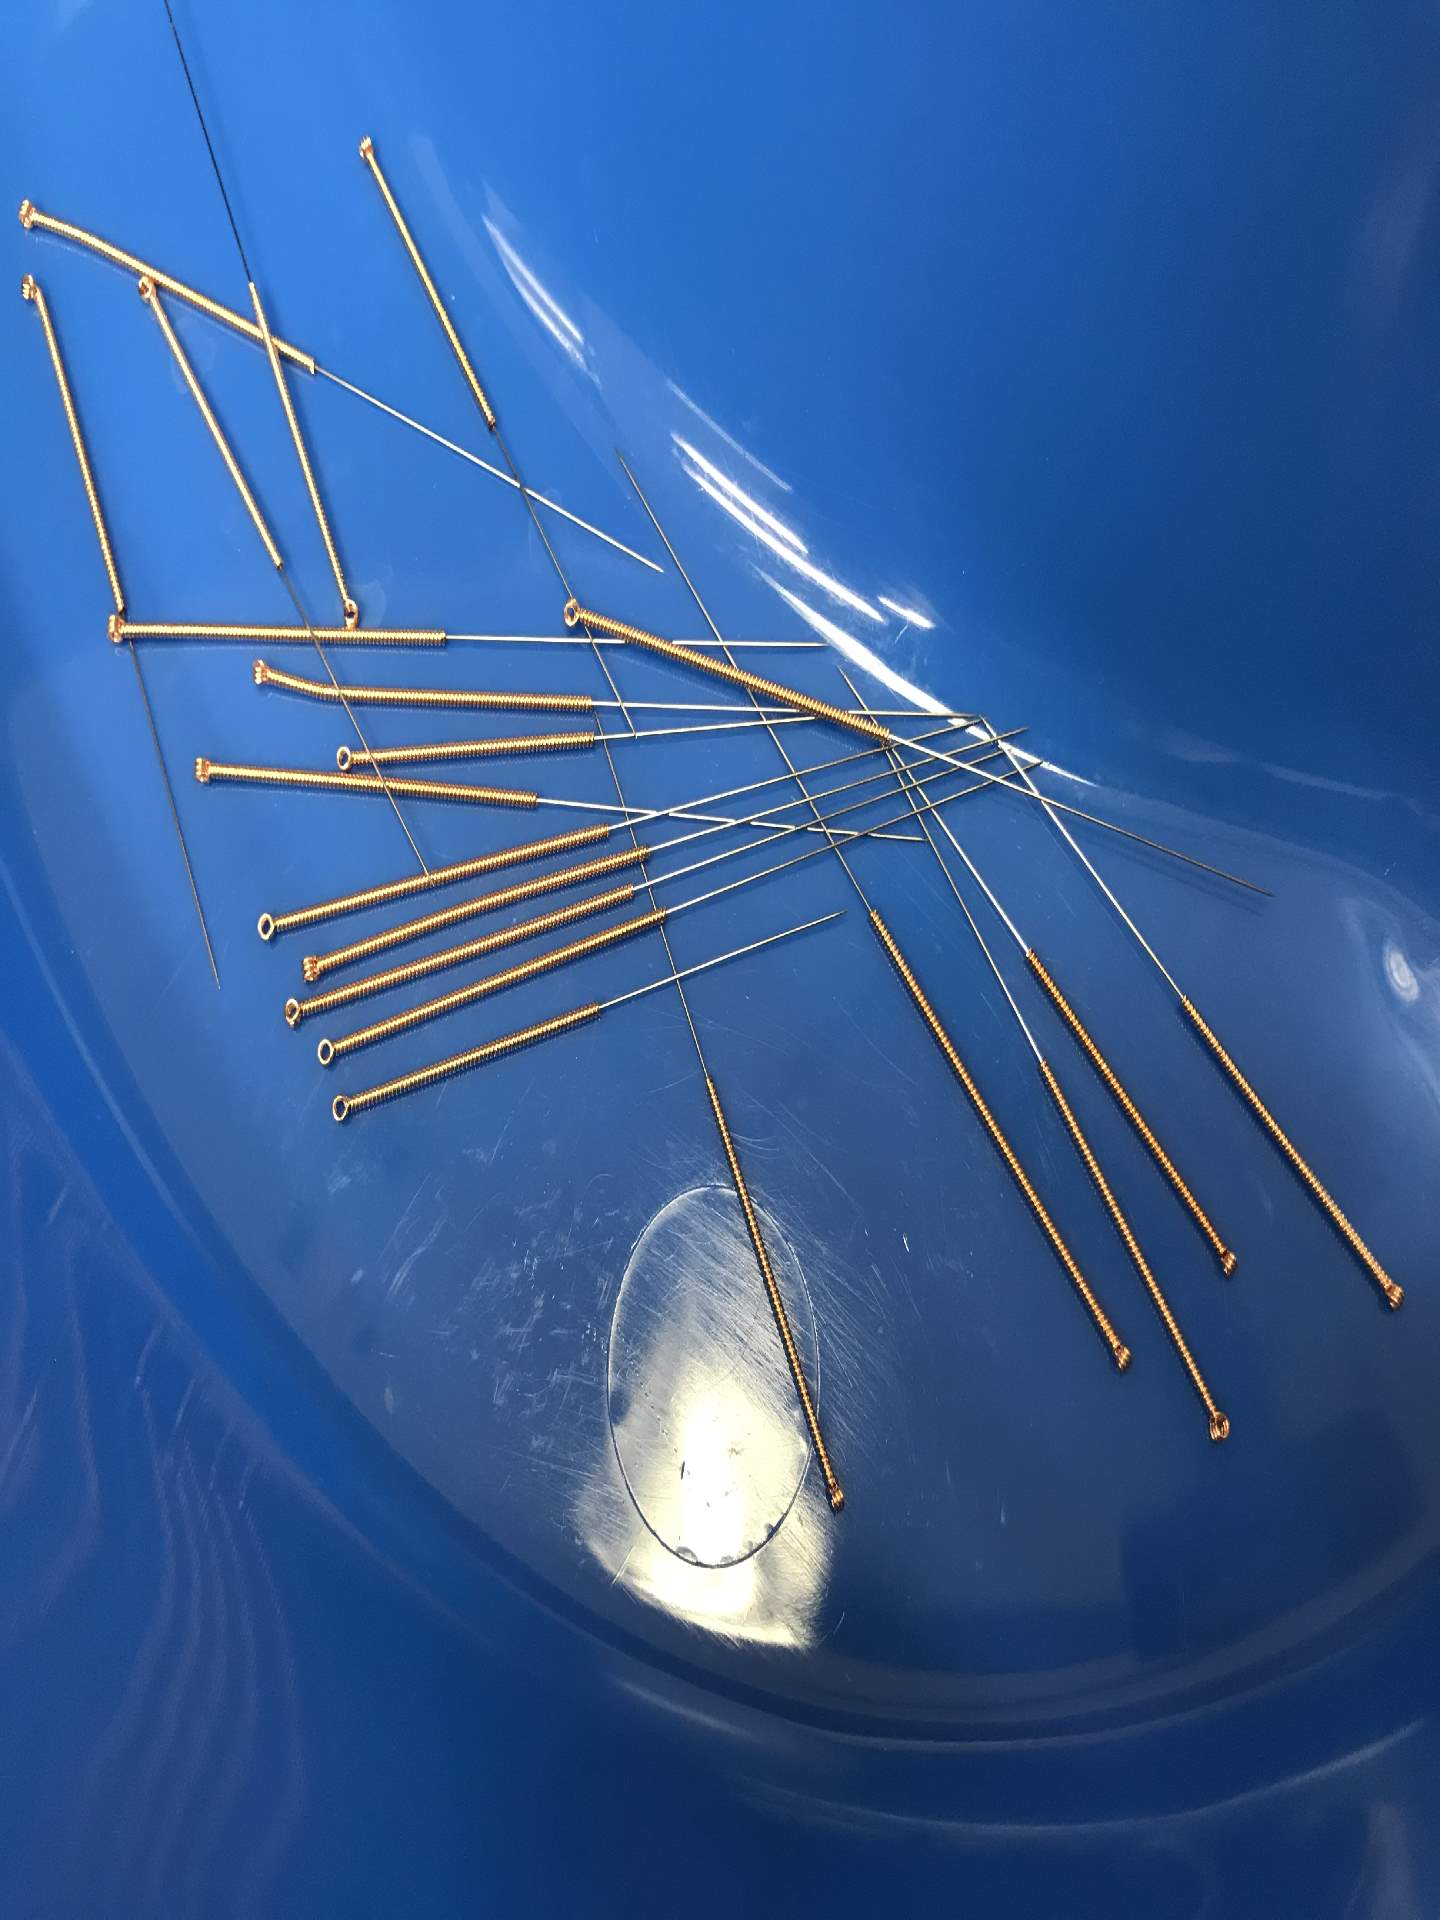needle: (1195, 1394, 1239, 1454), (1370, 1264, 1414, 1324), (1100, 1327, 1141, 1386), (318, 1081, 363, 1132), (304, 1028, 352, 1075), (815, 1460, 852, 1519), (1209, 1235, 1248, 1290), (95, 609, 142, 655), (248, 903, 292, 951), (290, 942, 339, 986), (8, 192, 50, 239), (324, 736, 371, 779), (9, 265, 48, 314), (274, 990, 318, 1034), (183, 747, 224, 794), (349, 125, 383, 178), (552, 593, 594, 633), (241, 653, 281, 695), (334, 585, 366, 635), (126, 274, 160, 316)
